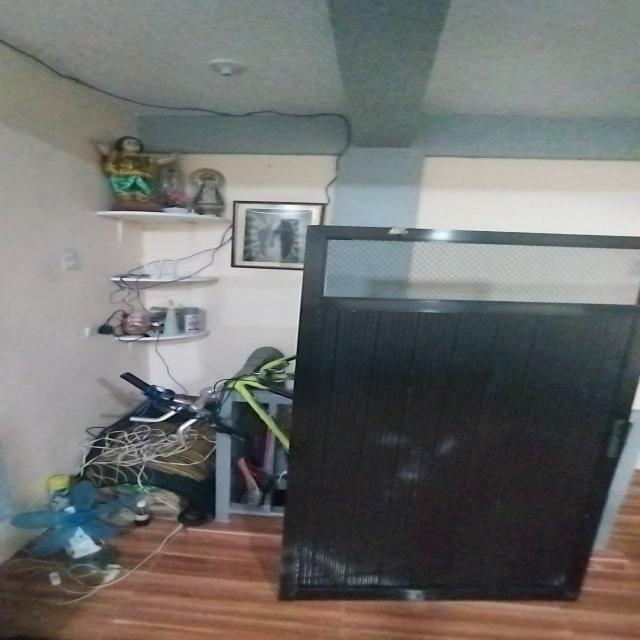door: (283, 216, 640, 602)
